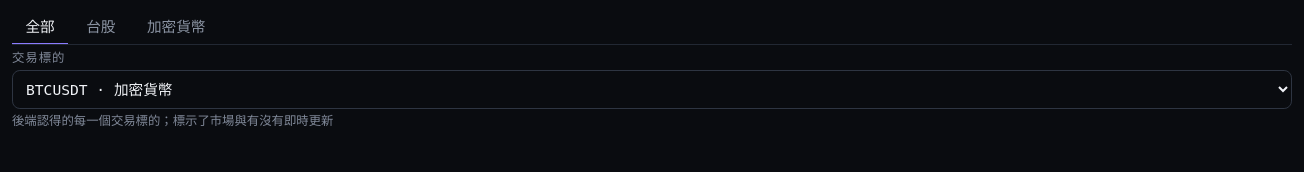
Test: SymbolField 的市場篩選 › 這個市場一檔都沒有時說得出原因，選單也不留一檔對不上的充數
Click the tab with test id "tab-taiwanStock" at (101, 28), box [73,12,129,45]
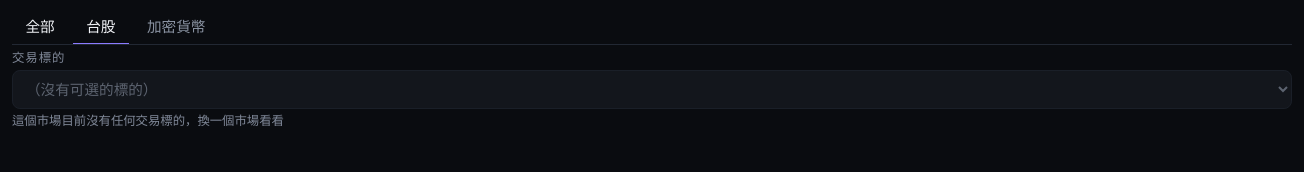
Expected: the text "這個市場目前沒有任何交易標的" is shown, [12,112,284,128]
Expected: the text "換一個市場看看" is shown, [12,112,284,128]
